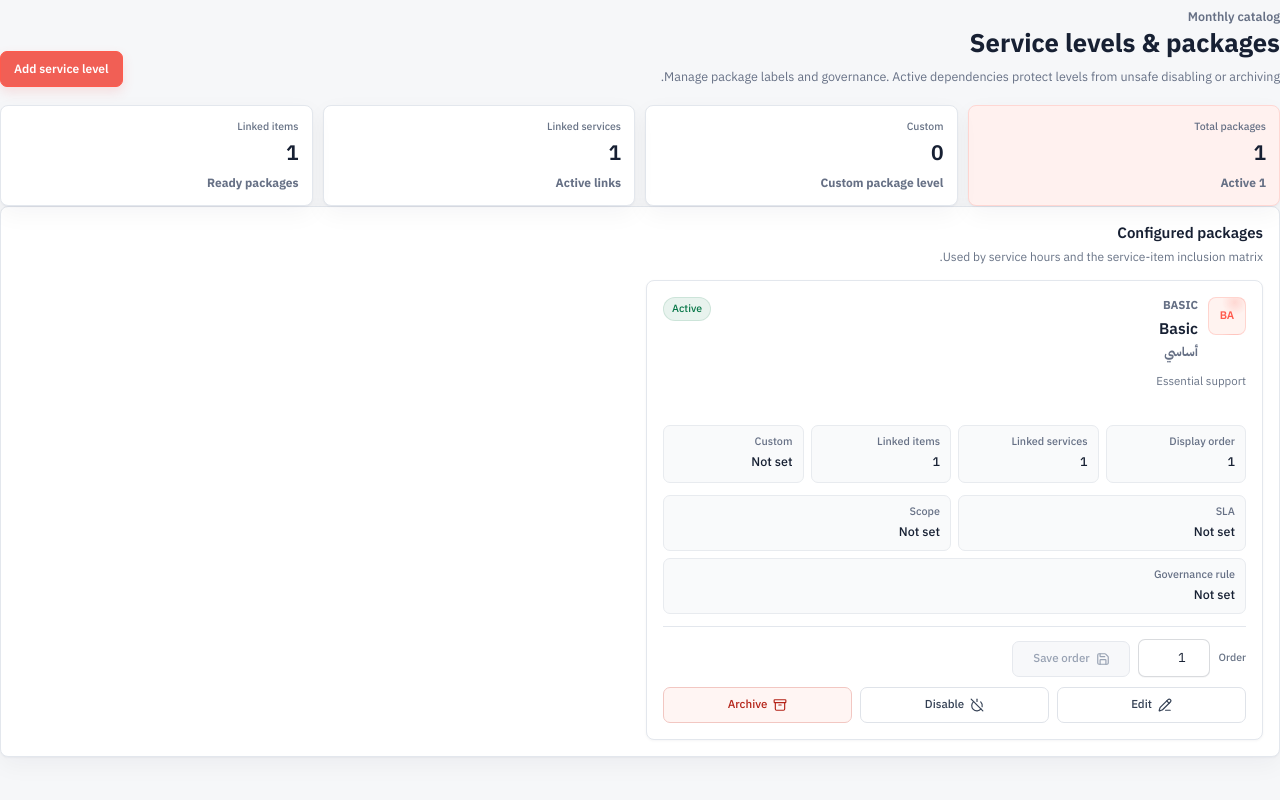
Admin catalog UI › renders the package catalog without a duplicate intro and opens the service-level form
Expected: the number of headings "Configured packages" is 1, [1117,222,1263,244]
Expected: the heading "Basic" is shown, [1159,317,1198,340]
Click the button "Add service level" at [61, 69], box [0,51,123,87]
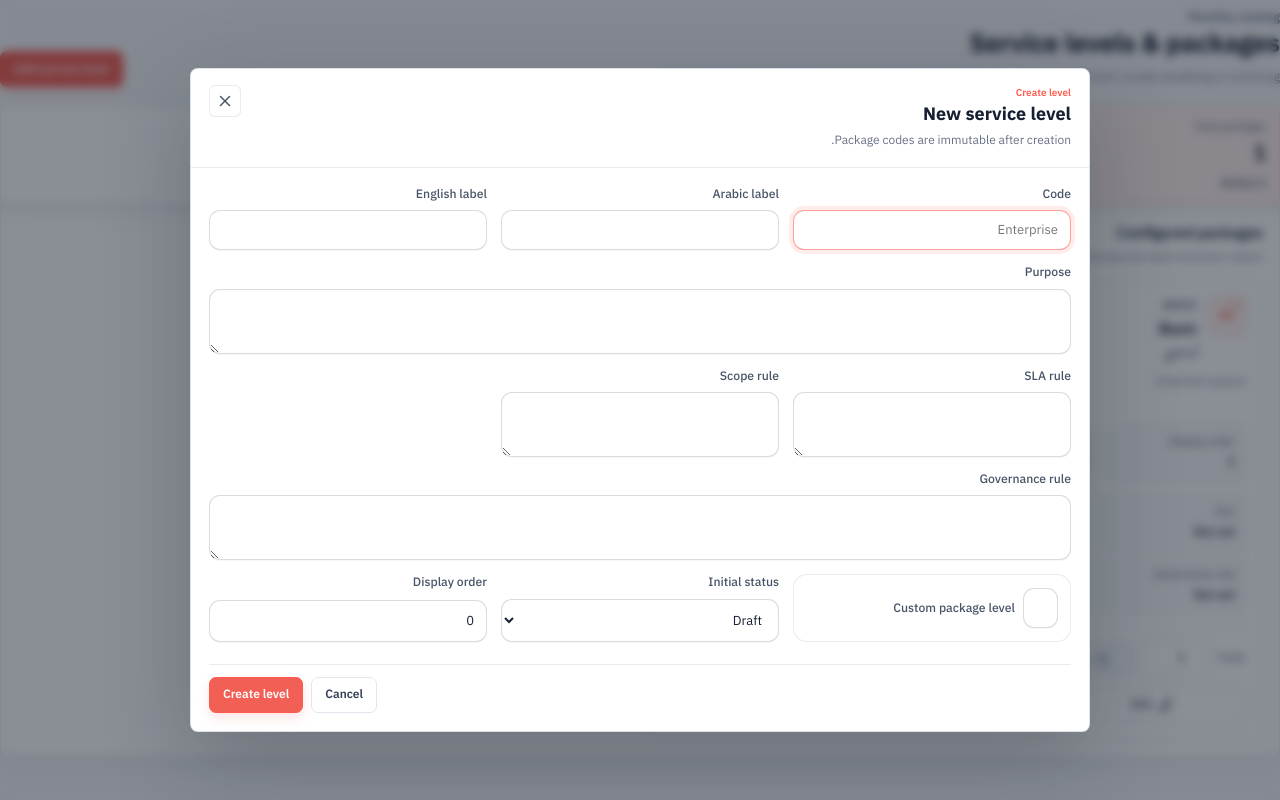
Now the dialog "New service level" is shown, box [190,68,1090,732]
Now the heading "New service level" is shown, box [923,100,1071,127]
Now the field labelled "Code" is shown, box [793,210,1071,250]
